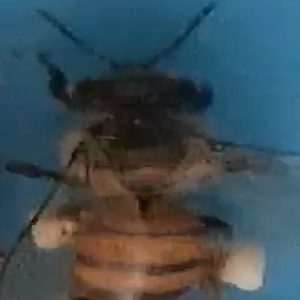bee: (7, 6, 270, 300)
